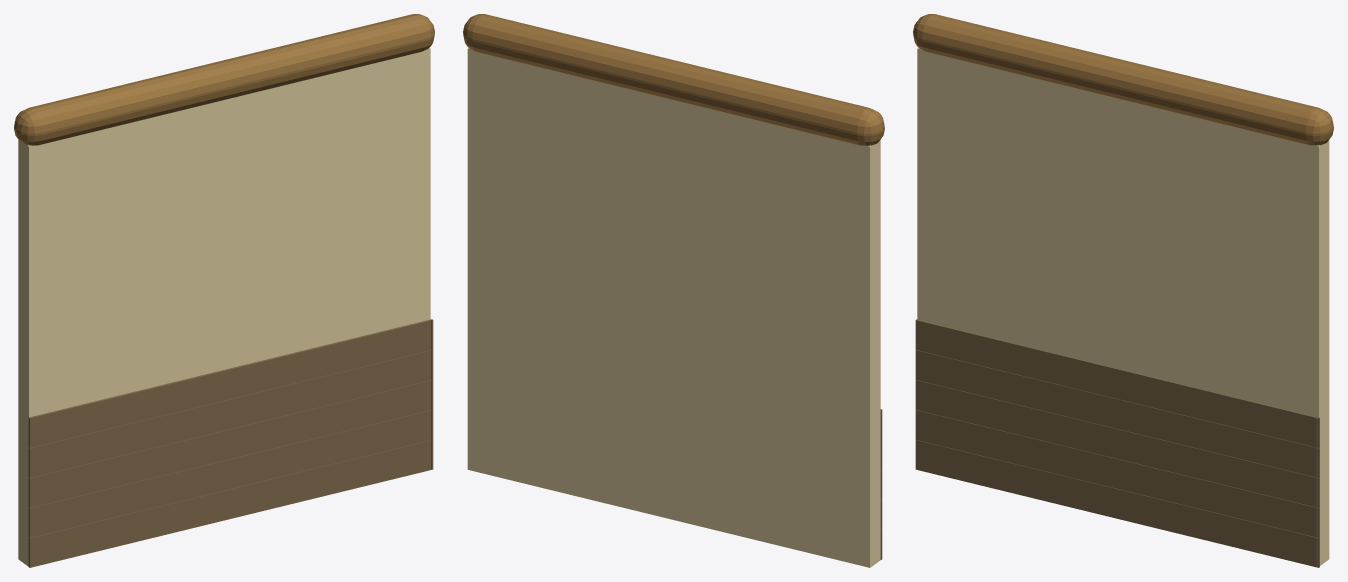
The model's file is SingleWall01 1.fbx.
3 renders of one model, left to right at view 1: azimuth 30°, elevation 25°; view 2: azimuth 150°, elevation 25°; view 3: azimuth 330°, elevation 25°, orthographic.
Parts seen in each view (by area): view 1: SingleWall01.001; view 2: SingleWall01.001; view 3: SingleWall01.001.
Boxes of the visible parts, x1,y1,x2,y2 form: SingleWall01.001: (14, 14, 434, 567); SingleWall01.001: (463, 14, 884, 567); SingleWall01.001: (913, 14, 1333, 567).
Bounding box in the file's own units: 207 × 215 × 16.01.
